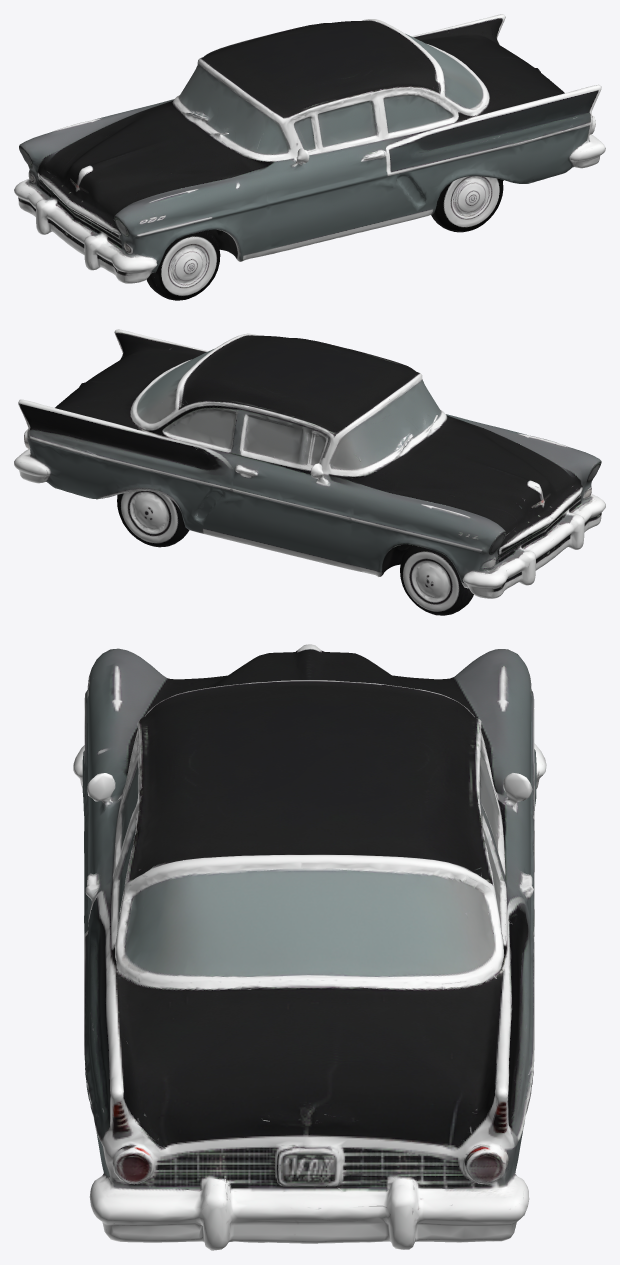
Rendered from Meshy_AI_1960s_American_classi_0501204310_texture.fbx.
3 renders of one model, top to bottom at view 1: azimuth 30°, elevation 25°; view 2: azimuth 150°, elevation 25°; view 3: azimuth 270°, elevation 25°, orthographic. The views are drawn at different scales.
Parts seen in each view (by area): view 1: Mesh_0; view 2: Mesh_0; view 3: Mesh_0.
Boxes of the visible parts, <box> form: Mesh_0: <box>14,14,605,300</box>; Mesh_0: <box>14,329,605,615</box>; Mesh_0: <box>73,644,546,1250</box>.
Bounding box in the file's own units: 191 × 62.5 × 78.82.
1 material, 1 textured.
